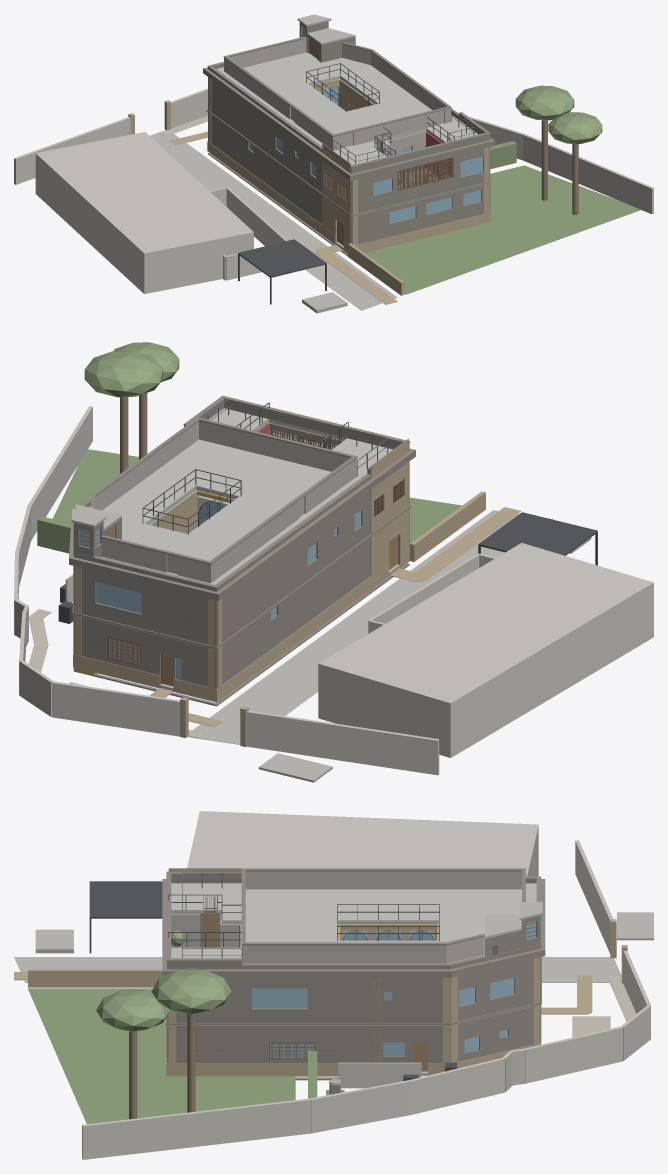
The model's file is taif_house_V9.0.glb.
3 views of the same model, one above another, from view 1: azimuth 30°, elevation 25°; view 2: azimuth 150°, elevation 25°; view 3: azimuth 270°, elevation 25° (orthographic). The views are drawn at different scales.
Parts seen in each view (by area): view 1: chr_site_plaster_old_house, chr_site_foliage_garden, roof_finish_floor, roof_attic_wall, gf_outer, chr_site_plaster_farm_wall_north_east, chr_site_concrete_driveway, ff_outer, chr_base_stone_plinth, roof_cornice, chr_site_steel_old_carport, chr_site_plaster_old_annex (+23 smaller); view 2: chr_site_plaster_old_house, roof_finish_floor, chr_site_plaster_farm_wall_north_east, ff_outer, roof_attic_wall, gf_outer, chr_site_concrete_driveway, chr_site_plaster_farm_wall_north, chr_base_stone_plinth, roof_cornice, chr_site_foliage_garden, chr_base_stone_feature_wall_00 (+24 smaller); view 3: chr_site_plaster_farm_wall_north_east, chr_site_plaster_old_house, chr_site_foliage_garden, roof_finish_floor, roof_attic_wall, ff_outer, gf_outer, roof_cornice, chr_site_concrete_driveway, chr_site_steel_old_carport, chr_site_foliage_palm_1_crown, chr_base_stone_plinth (+30 smaller).
Boxes of the visible parts, bbox=[...] form: chr_site_plaster_old_house: bbox=[35, 132, 253, 293]; chr_site_foliage_garden: bbox=[365, 165, 640, 294]; roof_finish_floor: bbox=[216, 52, 477, 164]; roof_attic_wall: bbox=[224, 38, 451, 150]; gf_outer: bbox=[208, 112, 490, 244]; chr_site_plaster_farm_wall_north_east: bbox=[171, 88, 653, 214]; chr_site_concrete_driveway: bbox=[150, 130, 397, 310]; ff_outer: bbox=[208, 77, 490, 214]; chr_base_stone_plinth: bbox=[207, 141, 490, 253]; roof_cornice: bbox=[203, 67, 495, 180]; chr_site_steel_old_carport: bbox=[238, 239, 326, 304]; chr_site_plaster_old_annex: bbox=[210, 187, 287, 280]; chr_site_plaster_old_house: bbox=[318, 543, 653, 757]; roof_finish_floor: bbox=[89, 408, 392, 584]; chr_site_plaster_farm_wall_north_east: bbox=[14, 406, 179, 736]; ff_outer: bbox=[73, 429, 409, 646]; roof_attic_wall: bbox=[95, 421, 356, 583]; gf_outer: bbox=[73, 509, 409, 688]; chr_site_concrete_driveway: bbox=[187, 510, 553, 744]; chr_site_plaster_farm_wall_north: bbox=[246, 710, 439, 775]; chr_base_stone_plinth: bbox=[73, 548, 409, 702]; roof_cornice: bbox=[69, 448, 415, 600]; chr_site_foliage_garden: bbox=[52, 449, 461, 547]; chr_base_stone_feature_wall_00: bbox=[370, 438, 408, 576]; chr_site_plaster_farm_wall_north_east: bbox=[82, 950, 650, 1159]; chr_site_plaster_old_house: bbox=[187, 811, 538, 876]; chr_site_foliage_garden: bbox=[28, 988, 295, 1124]; roof_finish_floor: bbox=[171, 883, 536, 963]; roof_attic_wall: bbox=[242, 871, 521, 963]; ff_outer: bbox=[167, 957, 540, 1022]; gf_outer: bbox=[167, 1005, 540, 1063]; roof_cornice: bbox=[162, 879, 545, 977]; chr_site_concrete_driveway: bbox=[14, 957, 621, 982]; chr_site_steel_old_carport: bbox=[89, 881, 162, 953]; chr_site_foliage_palm_1_crown: bbox=[151, 968, 231, 1014]; chr_base_stone_plinth: bbox=[166, 1043, 541, 1076].
Bounding box in the file's own units: 45.39 × 10.6 × 41.5.
